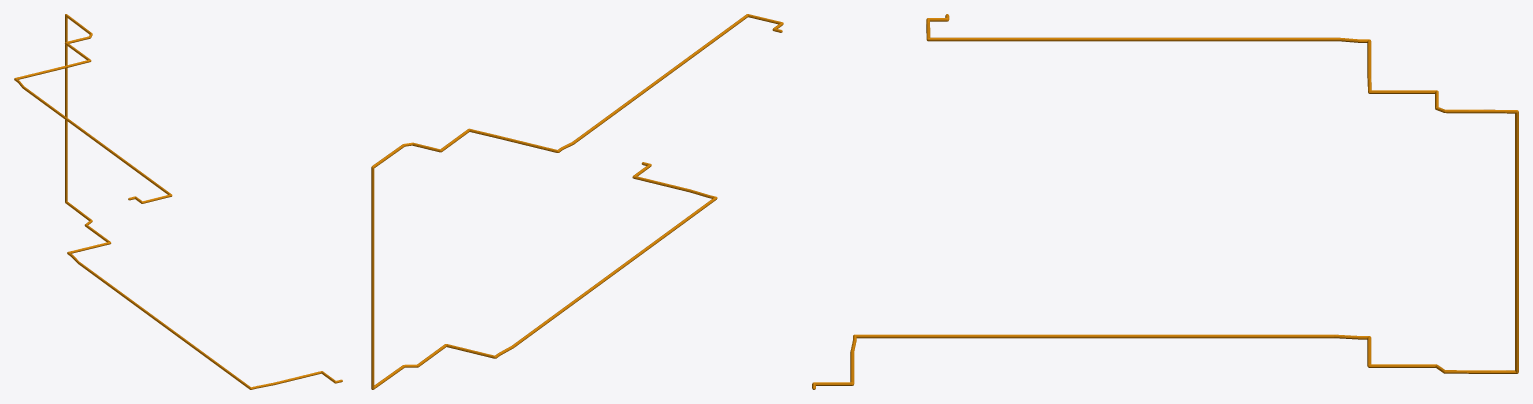
3 renders of one model, left to right at view 1: azimuth 30°, elevation 25°; view 2: azimuth 150°, elevation 25°; view 3: azimuth 270°, elevation 25°, orthographic. The views are drawn at different scales.
Size of the model in its own units: 1401 by 1520 by 3687.
